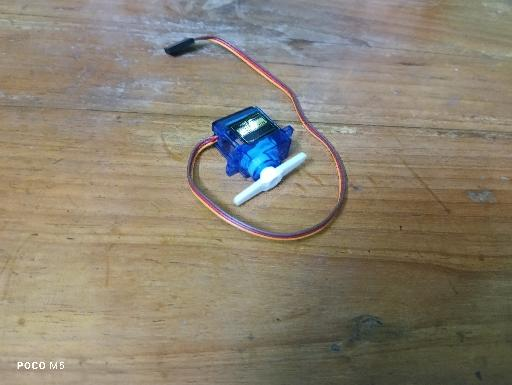Motor: (211, 105, 308, 207)
